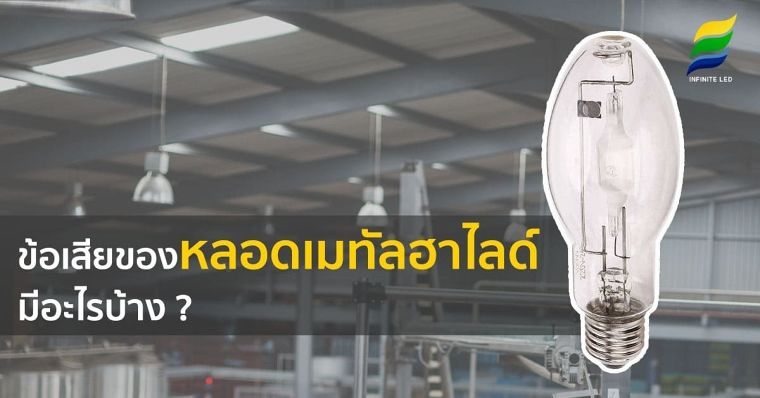Light_bulb: (539, 27, 686, 373)
